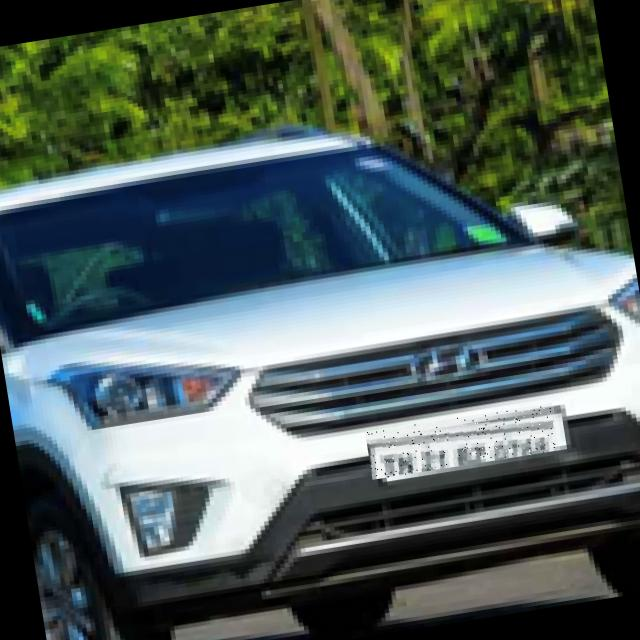Plate: (367, 404, 564, 481)
